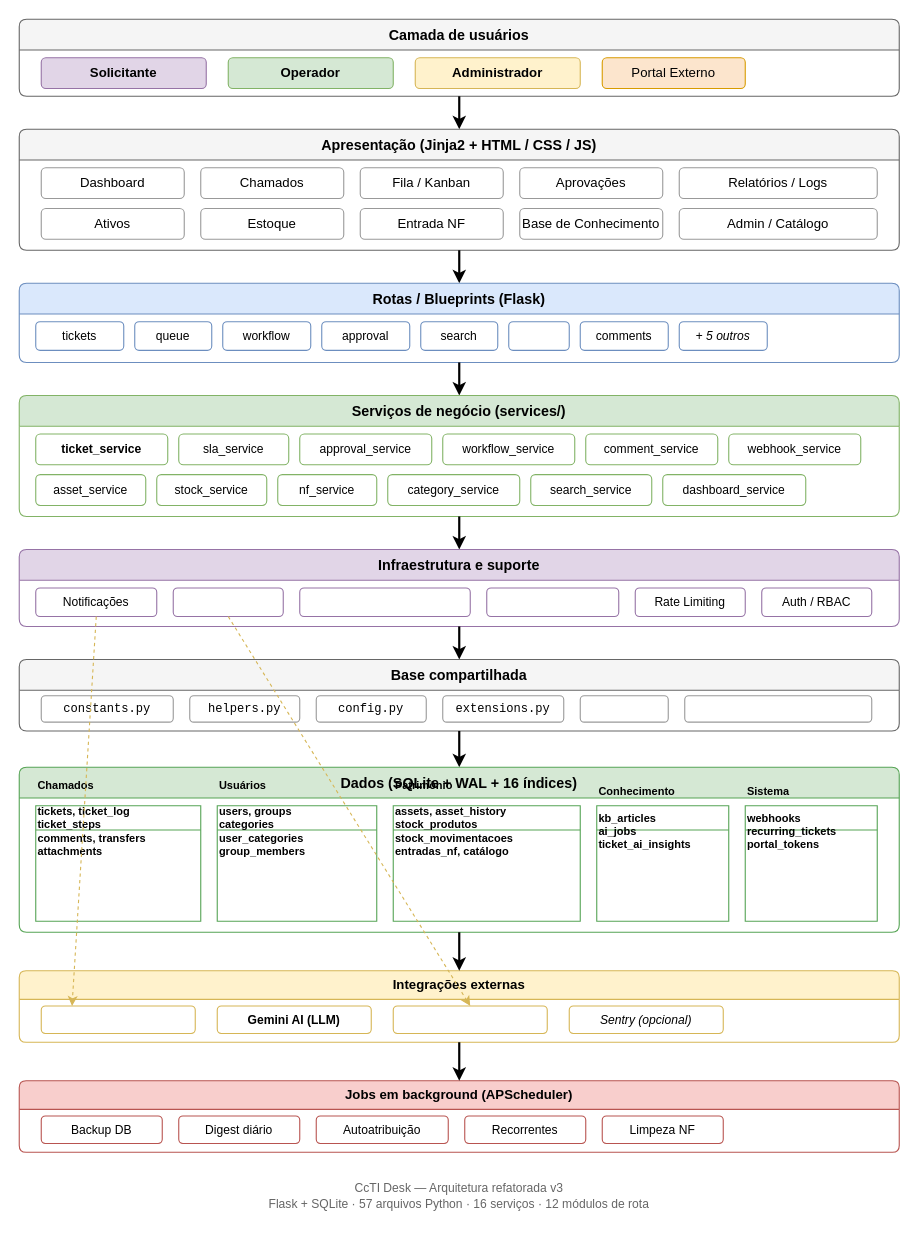
Image size: 919x1238. Some labels were removed from this diagram. The centre of each missing label's shape, as x and y in pixels:
CSRF (Flask-WTF): (552,602)
db.py: (623,708)
logs: (538,335)
models.py (re-export): (778,708)
Scheduler (APScheduler): (384,602)
SMTP / E-mail: (117,1019)
Webhooks: (227,602)
Webhooks (saída): (469,1019)
